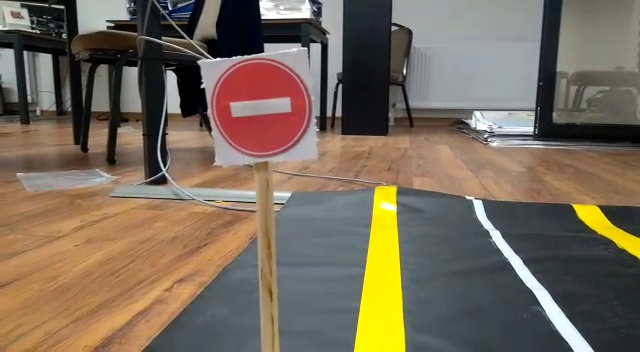girisi_olmayan_yol: (209, 57, 312, 159)
